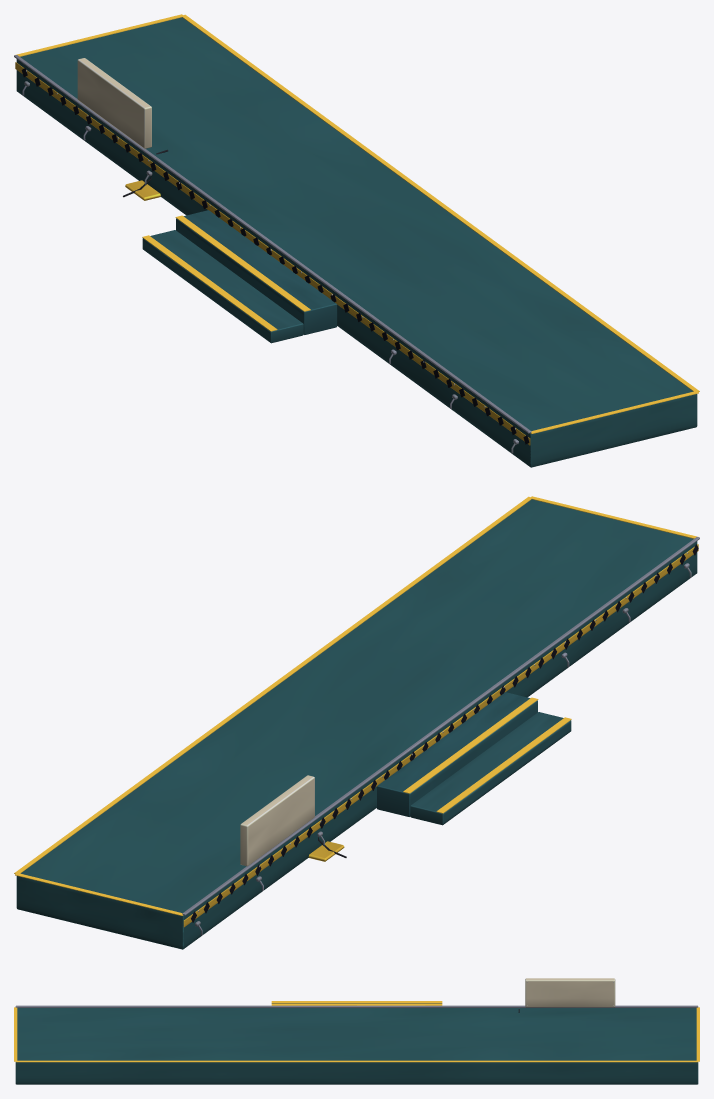
The model's file is SM_Stage4_CameraDeck.fbx.
3 renders of one model, top to bottom at view 1: azimuth 30°, elevation 25°; view 2: azimuth 150°, elevation 25°; view 3: azimuth 270°, elevation 25°, orthographic. The views are drawn at different scales.
Parts seen in each view (by area): view 1: SM_Stage4_CameraDeck; view 2: SM_Stage4_CameraDeck; view 3: SM_Stage4_CameraDeck.
Part boxes in pixels (left/top/right/bottom): SM_Stage4_CameraDeck: left=14, top=14, right=699, bottom=467; SM_Stage4_CameraDeck: left=14, top=496, right=699, bottom=949; SM_Stage4_CameraDeck: left=14, top=978, right=699, bottom=1084.
Size of the model in its own units: 424 by 136 by 1608.
